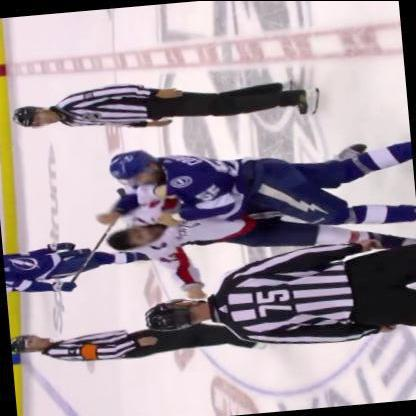non-Voilence: (7, 66, 323, 144), (10, 312, 272, 376)
voilence: (89, 124, 415, 312)
